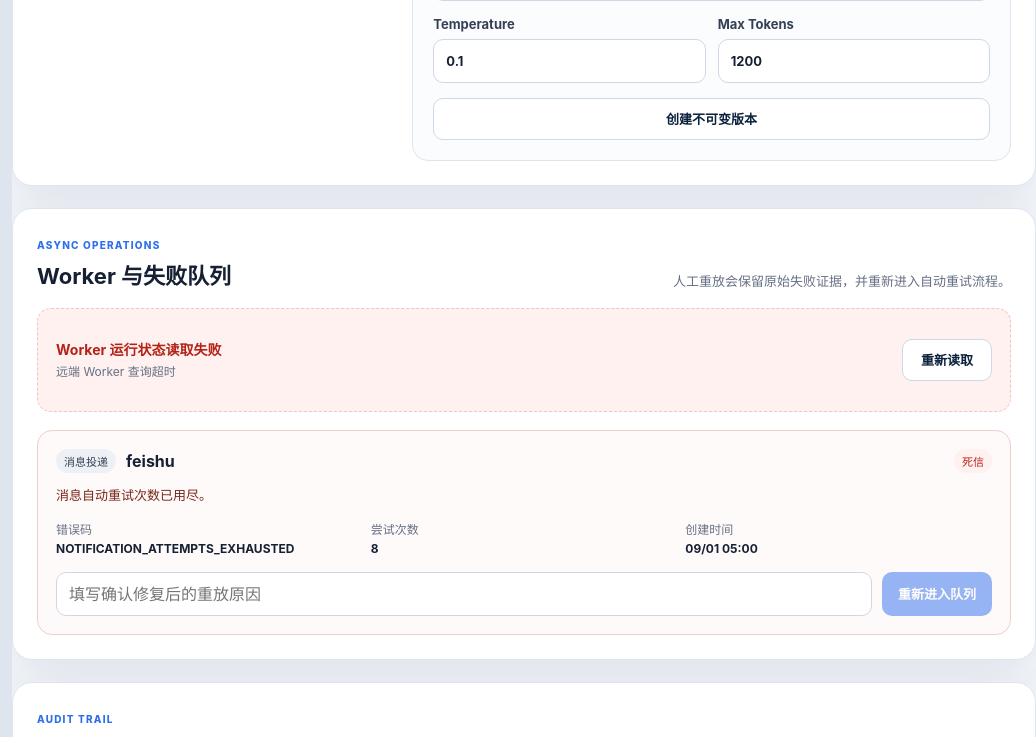
Test case: SystemManagementWorkspace › isolates a failed section and retries only that section
(page scrolled)
Check: the text "Worker 运行状态读取失败" is shown, box [56,341,222,358]
Check: the text "远端 Worker 查询超时" is shown, box [56,364,176,379]
Click the button with aria-label "重试 Worker 运行状态" at [947, 360], box [902,339,992,381]
(page scrolled)
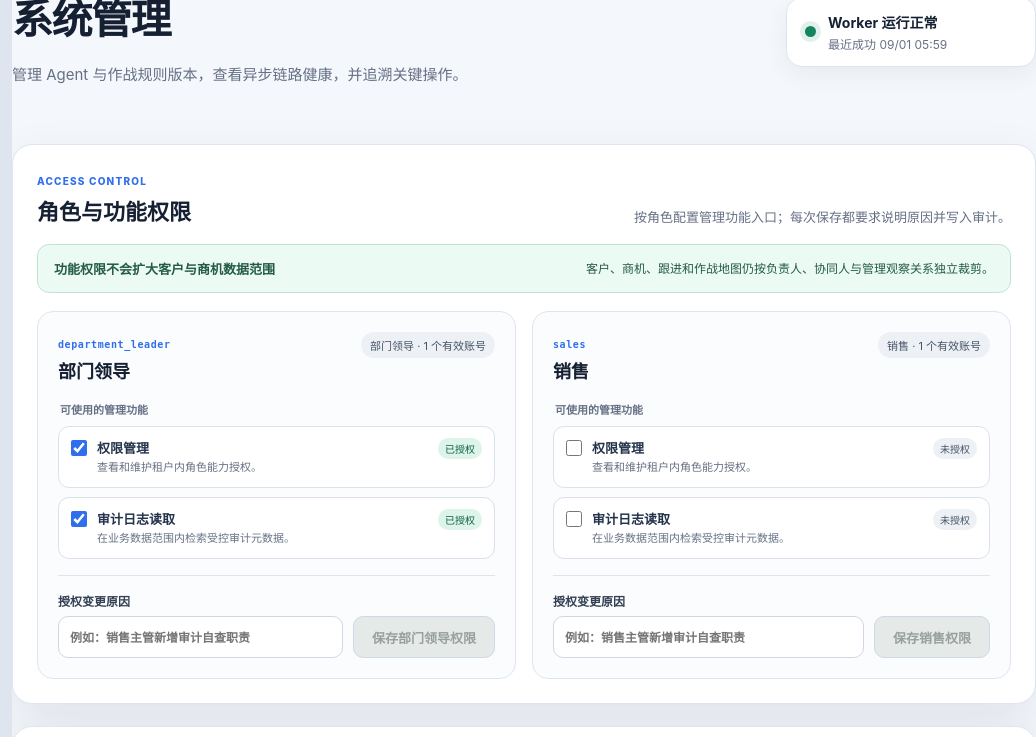
Check: the text "Worker 运行正常" is shown, box [828,12,947,32]
